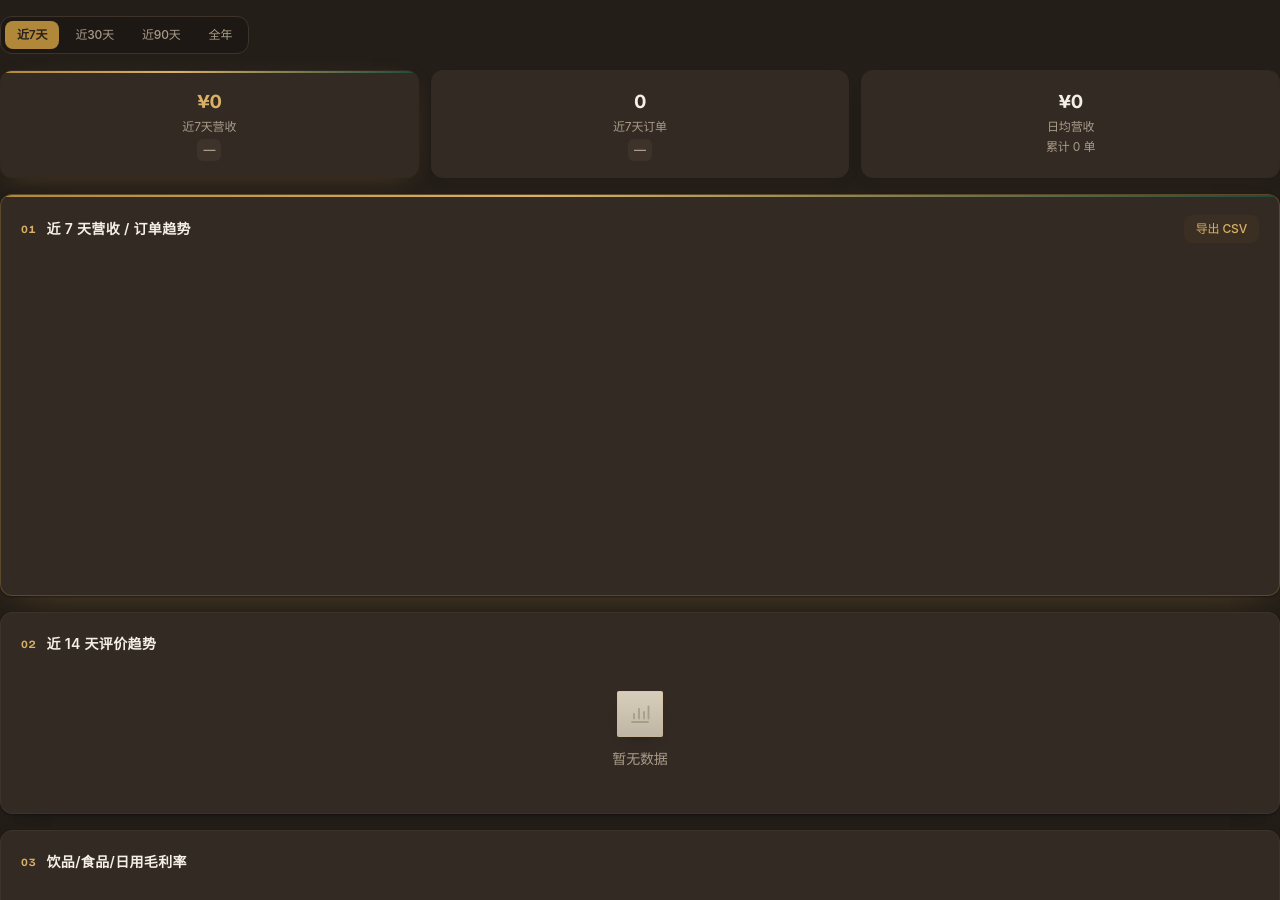
区间切换与导出 › 点「近90天」重新拉取聚合并更新表题
Step 1. Click the tab "近90天" → (161, 35), box [130,21,193,49]
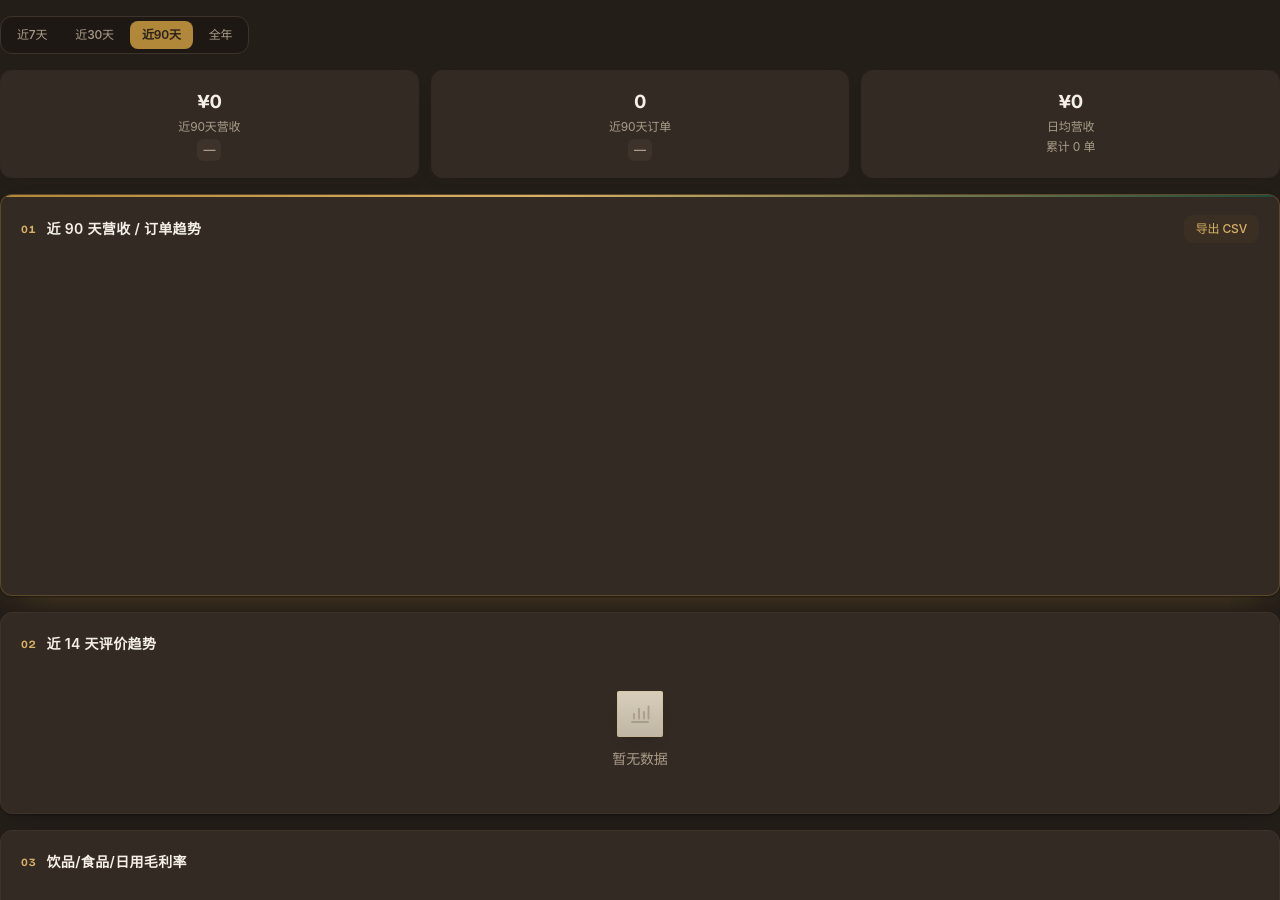
Now the heading "01 近 90 天营收 / 订单趋势" is shown, box [21,218,201,240]
